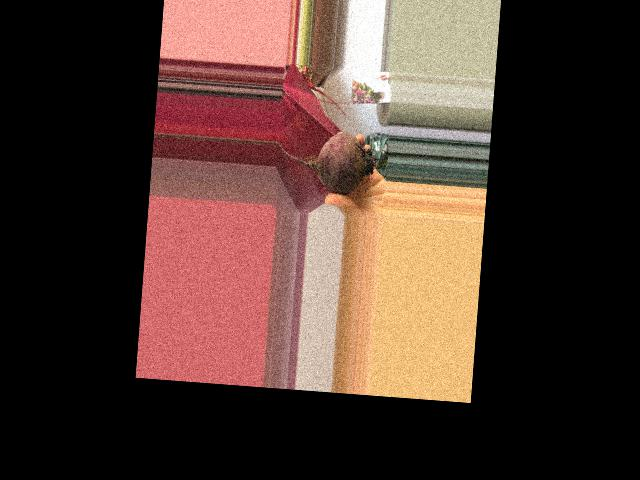beet: (274, 127, 389, 197)
